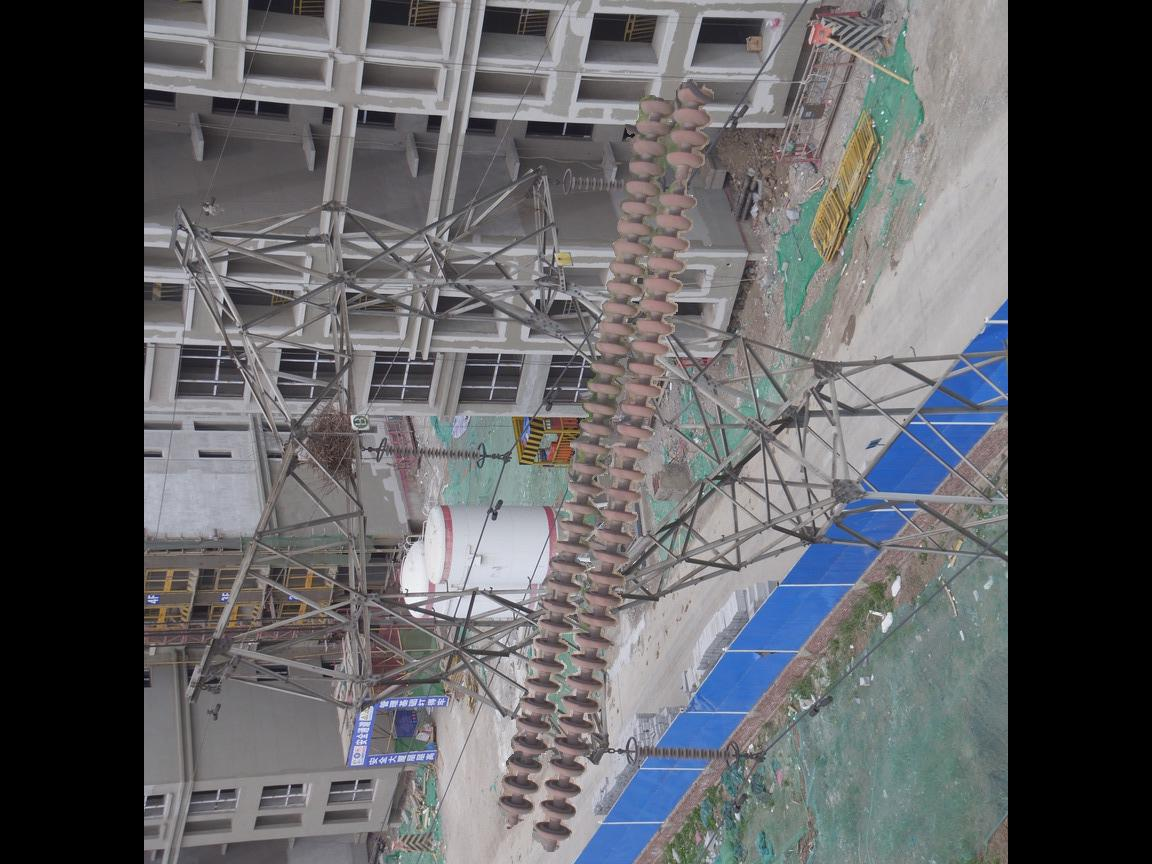insulator: (495, 78, 726, 853), (371, 436, 483, 468), (636, 738, 739, 768)
insulator_stringdrop: (656, 147, 706, 213)
